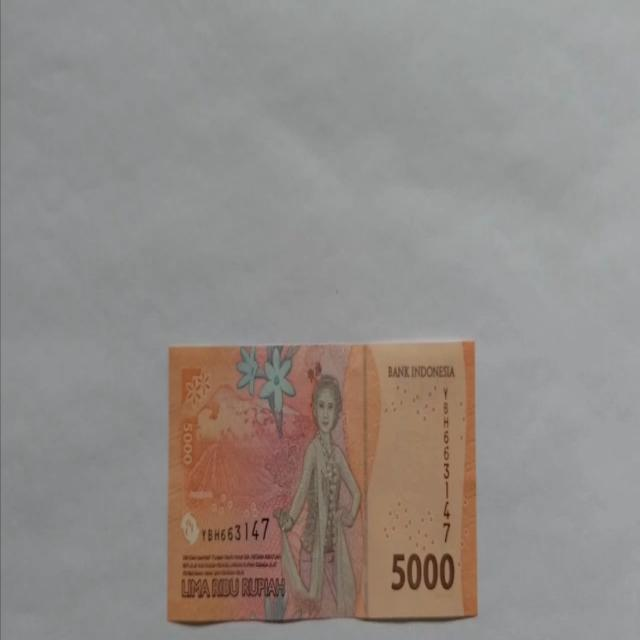lima ribu rupiah: (167, 340, 477, 624), (272, 373, 362, 620)
